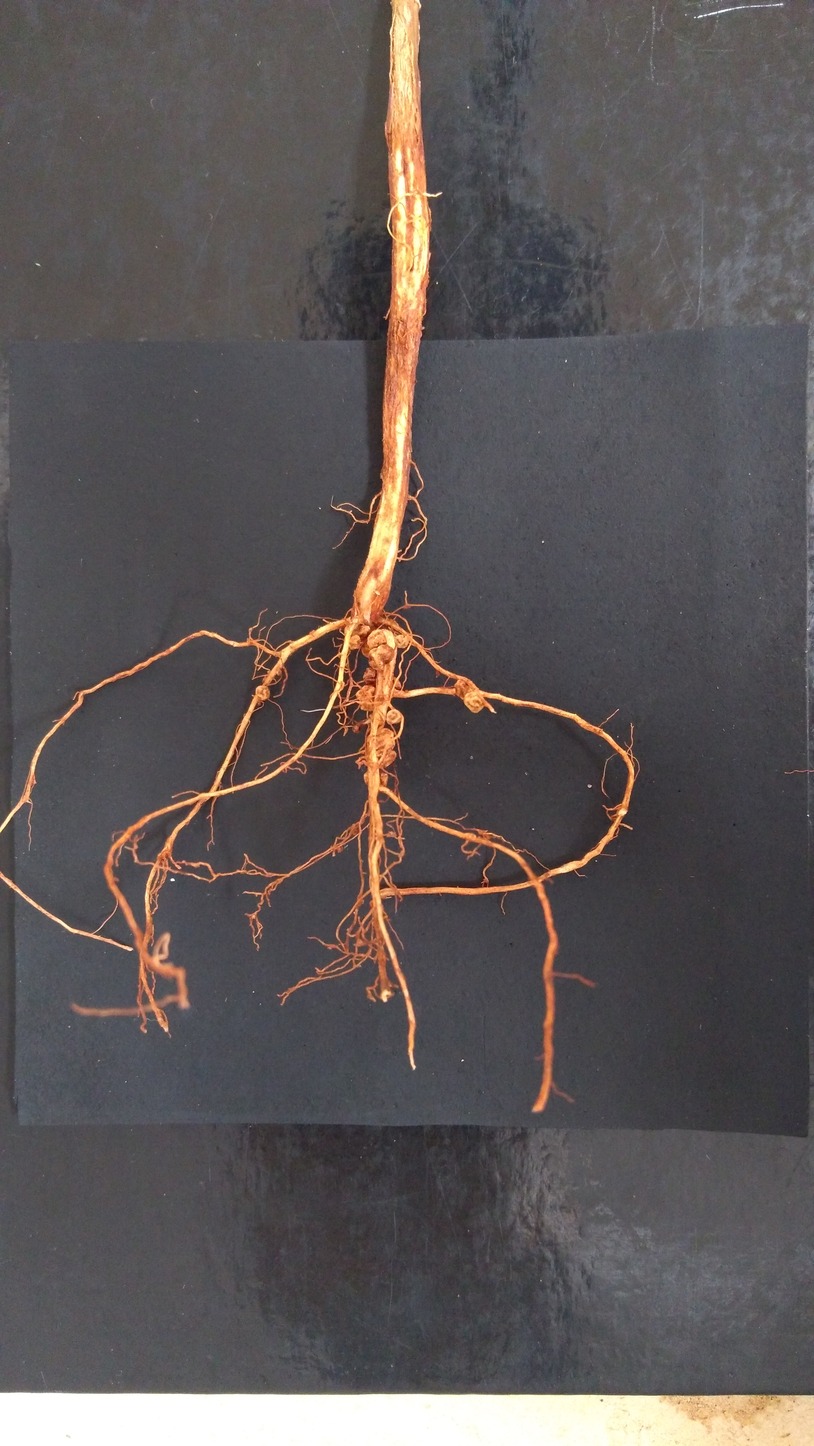nodule: (375, 727, 395, 757), (355, 685, 375, 711), (463, 691, 485, 714), (453, 678, 475, 700), (366, 629, 387, 649), (368, 648, 385, 671), (376, 644, 395, 663), (378, 748, 396, 768), (362, 666, 378, 687), (385, 709, 402, 725), (343, 623, 362, 637), (255, 685, 270, 701), (361, 640, 374, 658), (394, 634, 409, 649), (352, 719, 367, 733), (349, 634, 361, 651), (378, 772, 389, 789), (349, 822, 360, 837), (392, 675, 402, 691), (359, 624, 371, 637), (363, 771, 370, 786), (386, 831, 397, 839), (357, 617, 368, 625), (336, 844, 343, 853), (356, 937, 363, 946), (276, 668, 283, 676), (342, 698, 350, 705), (435, 669, 441, 678), (309, 629, 316, 635), (369, 900, 374, 908), (248, 627, 253, 632), (405, 689, 409, 693), (267, 670, 270, 674)
